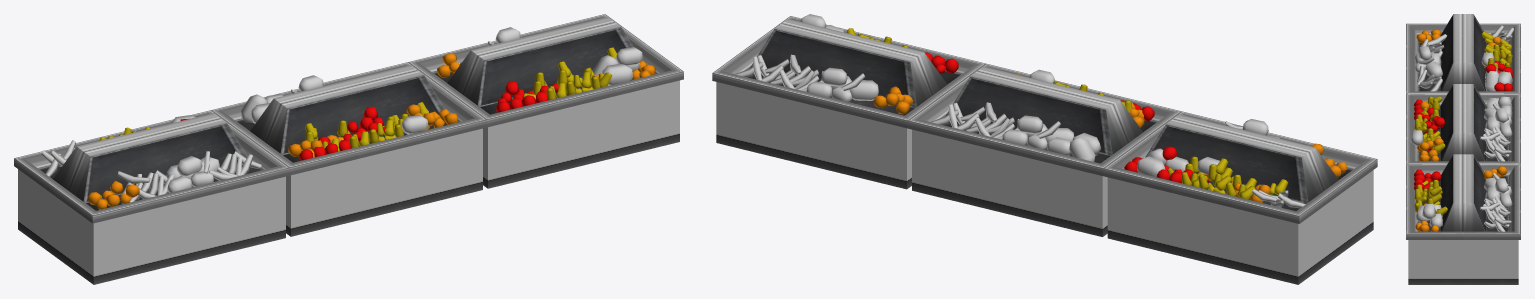
File: Messy_Produce_Shelves_Fruit.fbx
The picture shows the model from 3 angles, left to right: view 1: azimuth 30°, elevation 25°; view 2: azimuth 150°, elevation 25°; view 3: azimuth 270°, elevation 25°; orthographic projection. The views are drawn at different scales.
Parts seen in each view (by area): view 1: Messy_Produce_Shelves_Fruit; view 2: Messy_Produce_Shelves_Fruit; view 3: Messy_Produce_Shelves_Fruit.
Boxes of the visible parts, x1,y1,x2,y2 form: Messy_Produce_Shelves_Fruit: [14, 14, 683, 284]; Messy_Produce_Shelves_Fruit: [712, 14, 1377, 284]; Messy_Produce_Shelves_Fruit: [1406, 14, 1520, 284].
Size of the model in its own units: 896 by 143 by 207.
